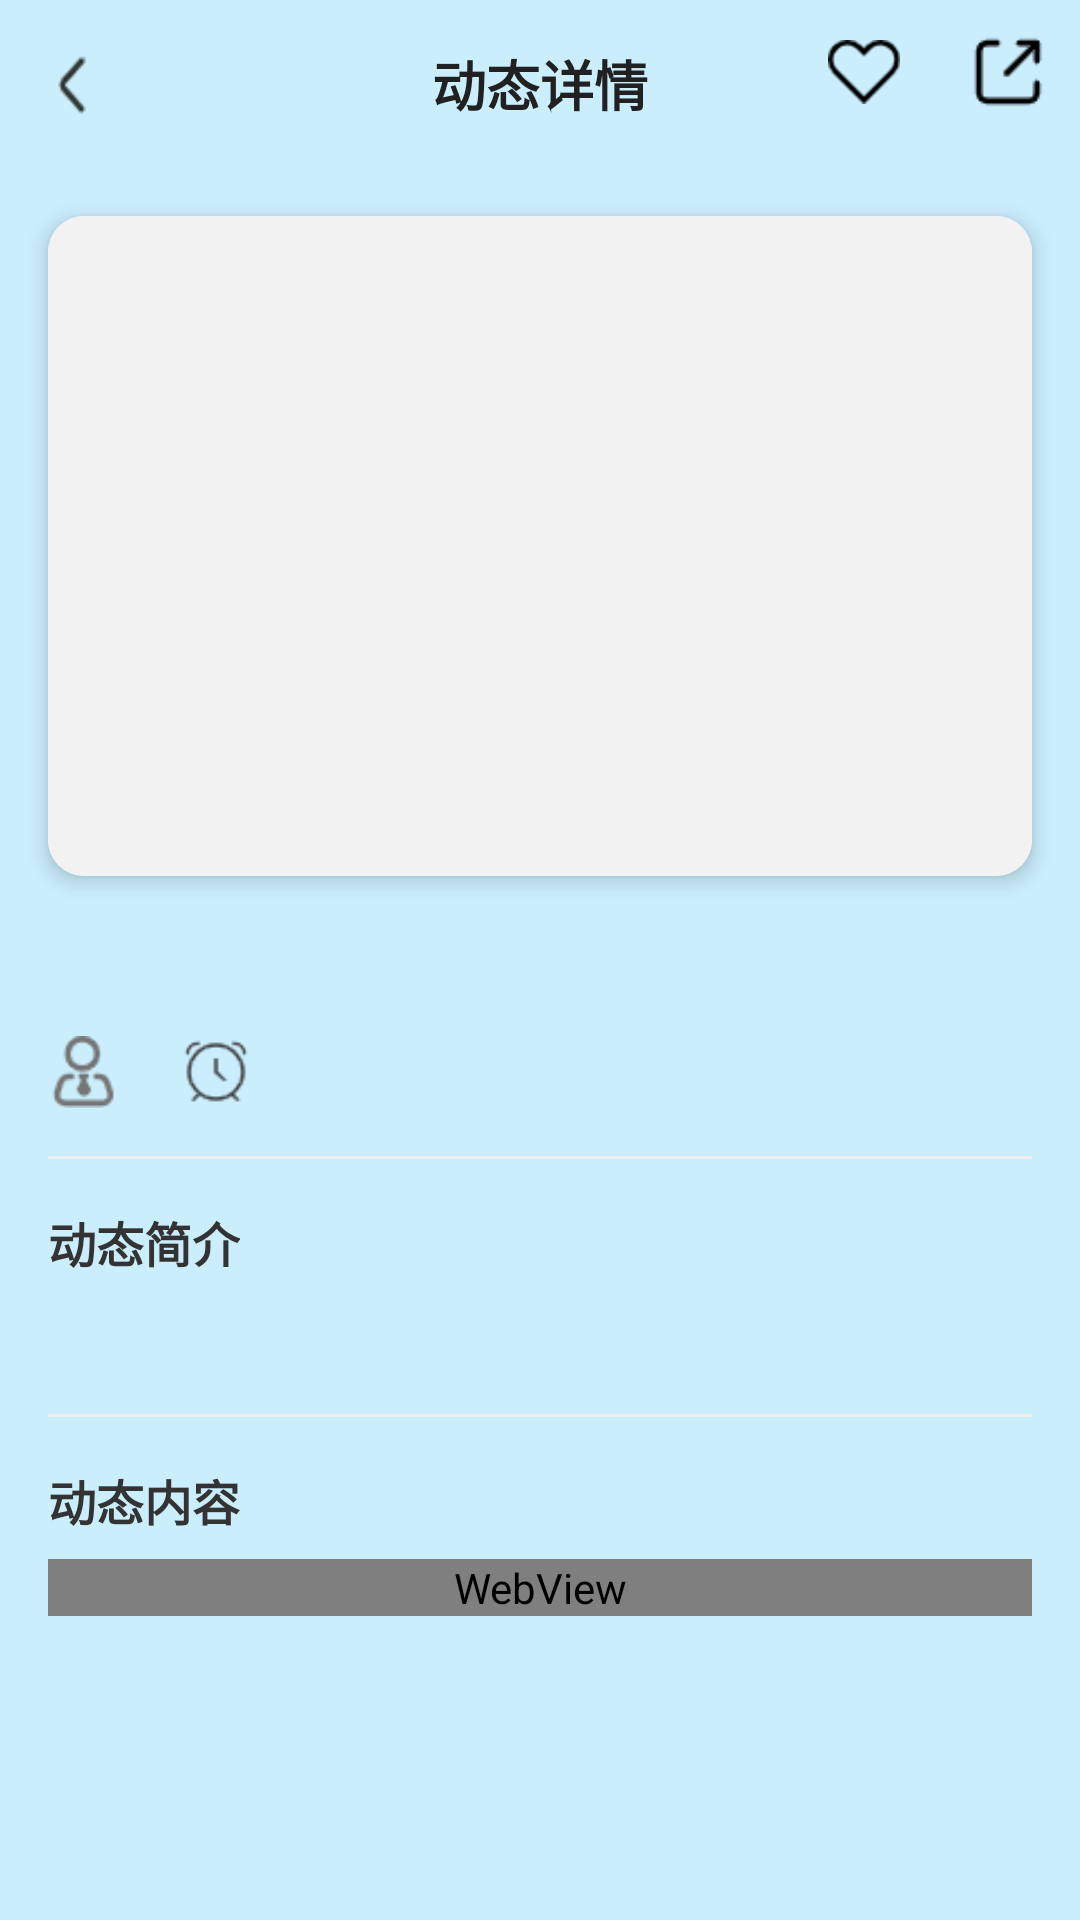

Screen size 1080px x 1920px. Icon name, then its box in pixels as (x1, y1, x2, y2):
alarm: (185, 1041, 247, 1102)
分享: (974, 38, 1042, 106)
点赞: (828, 40, 900, 104)
返回: (58, 57, 86, 114)
